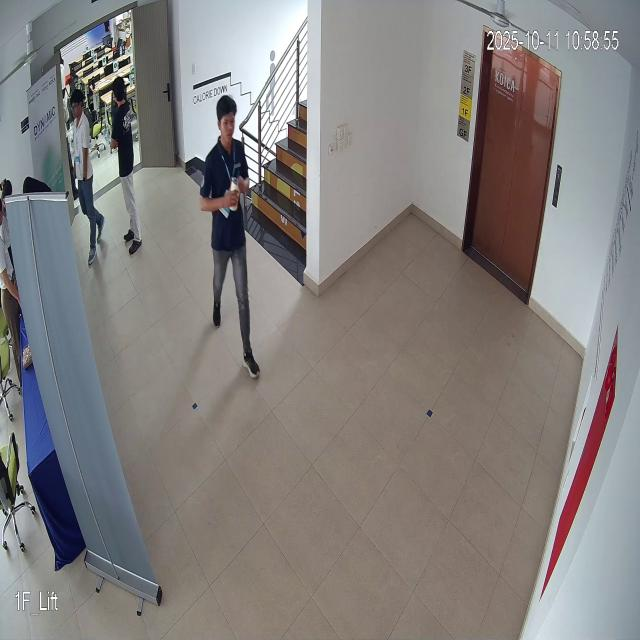face: (216, 91, 243, 157)
